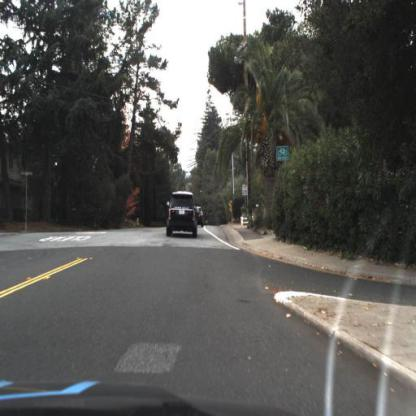car: (165, 187, 200, 243), (194, 203, 207, 230)
